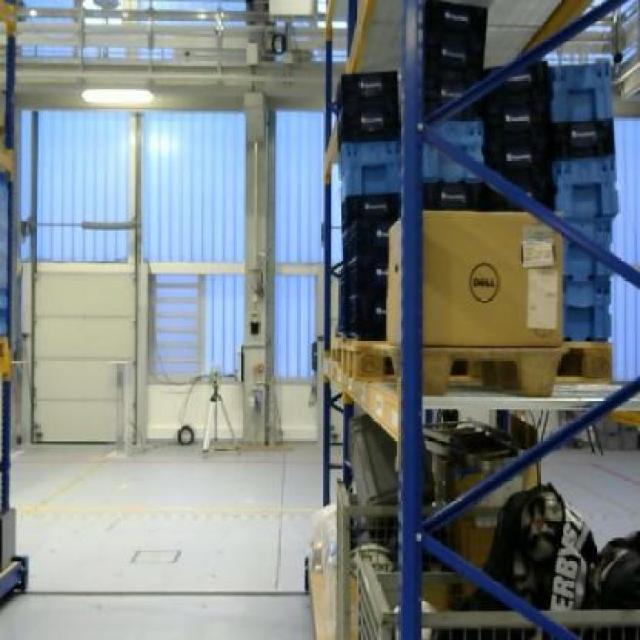box: (422, 207, 564, 346)
